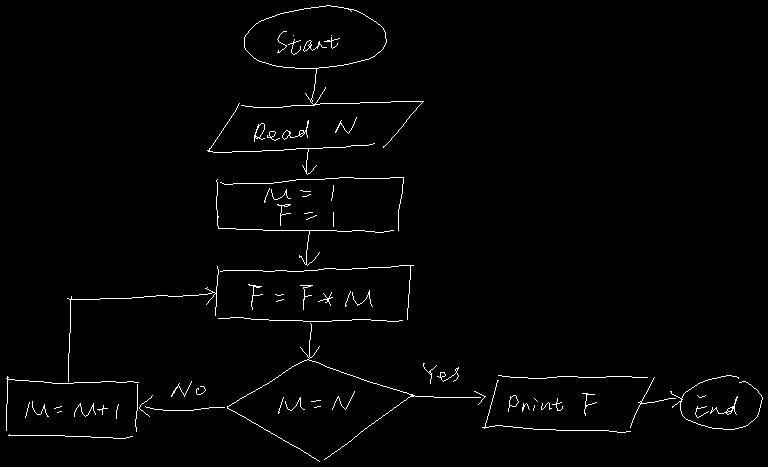arrow: (67, 287, 215, 381), (139, 395, 224, 416), (411, 391, 485, 404), (305, 69, 325, 105), (638, 391, 682, 407), (299, 231, 319, 265), (300, 323, 319, 358), (302, 148, 316, 174)
data: (207, 101, 423, 152), (482, 375, 654, 432)
decision: (227, 359, 413, 461)
process: (215, 265, 413, 321), (216, 177, 403, 232), (6, 376, 138, 438)
terminator: (244, 5, 386, 68), (680, 375, 762, 429)
text: (248, 284, 372, 309), (264, 185, 333, 226), (254, 117, 356, 141), (508, 393, 596, 415), (278, 391, 354, 413), (25, 401, 118, 418), (277, 31, 339, 54), (695, 395, 737, 417), (423, 363, 458, 383), (171, 381, 205, 396)
